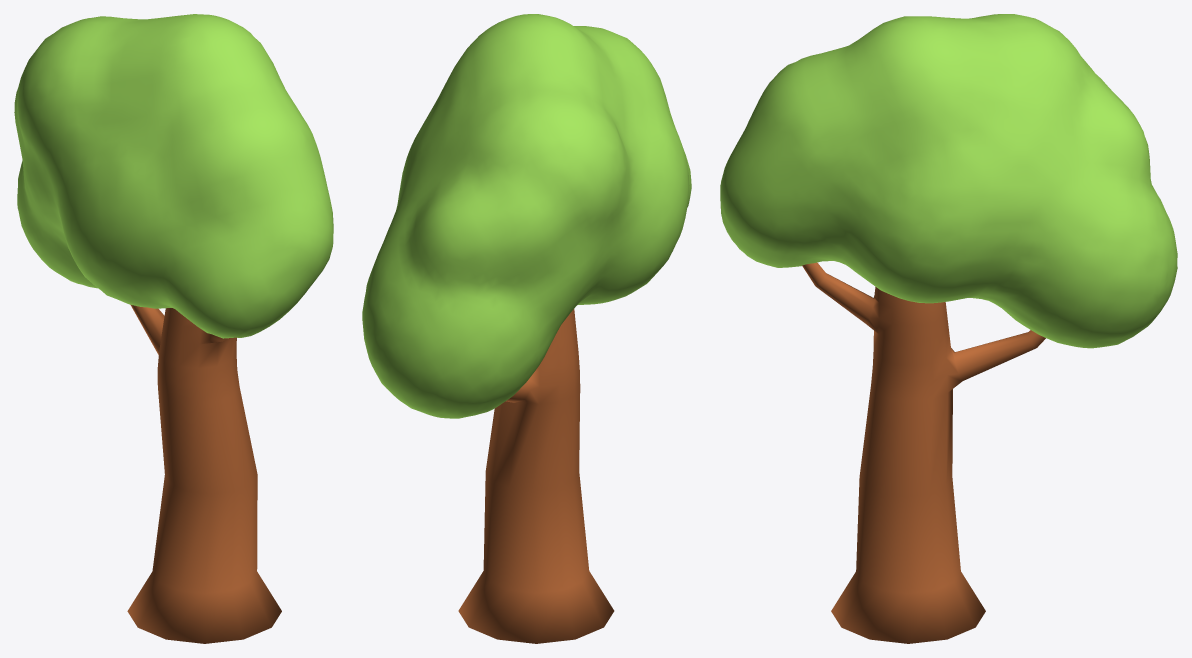
Rendered from tree (1).fbx.
3 views of the same model, side by side, from view 1: azimuth 30°, elevation 25°; view 2: azimuth 150°, elevation 25°; view 3: azimuth 270°, elevation 25° (orthographic).
Visible parts, largest first — view 1: Circle.018; view 2: Circle.018; view 3: Circle.018.
Part boxes in pixels (x1=…): Circle.018: x1=14, y1=14, x2=333, y2=643; Circle.018: x1=362, y1=14, x2=691, y2=643; Circle.018: x1=720, y1=14, x2=1177, y2=643.
Bounding box in the file's own units: 16.77 × 39.74 × 28.02.
